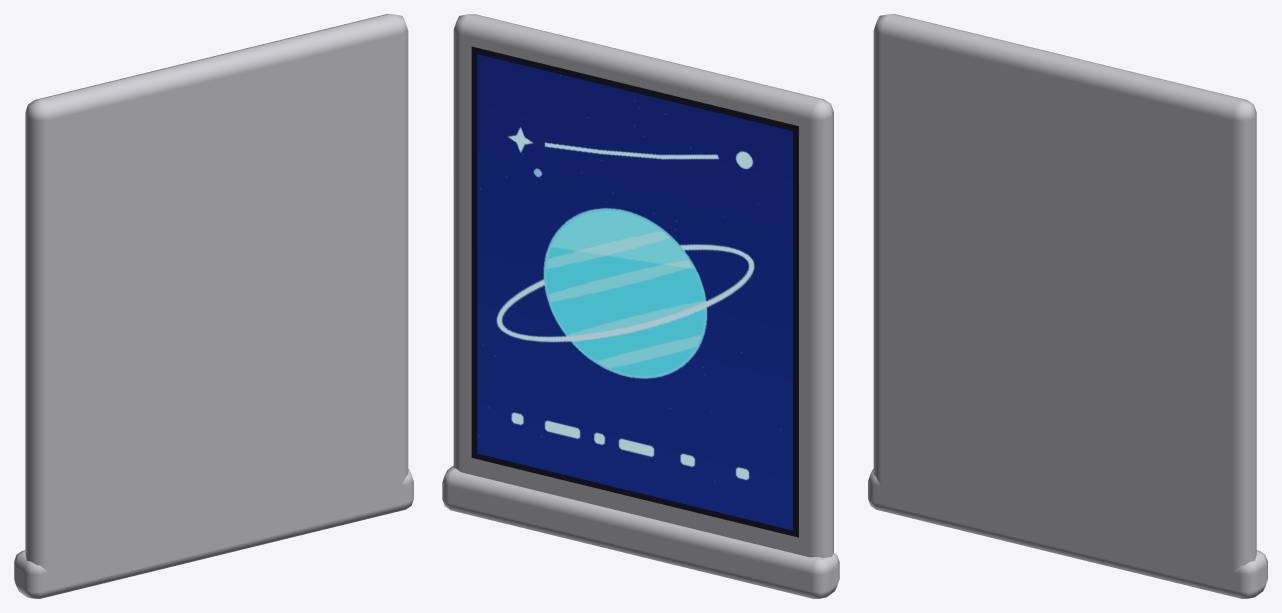
Rendered from prop.props_quarters.poster_planet.glb.
3 views of the same model, side by side, from view 1: azimuth 30°, elevation 25°; view 2: azimuth 150°, elevation 25°; view 3: azimuth 330°, elevation 25° (orthographic).
Parts seen in each view (by area): view 1: prop.props_quarters.poster_planet; view 2: prop.props_quarters.poster_planet; view 3: prop.props_quarters.poster_planet.
Part boxes in pixels (x1=…): prop.props_quarters.poster_planet: x1=14, y1=14, x2=413, y2=598; prop.props_quarters.poster_planet: x1=442, y1=14, x2=839, y2=598; prop.props_quarters.poster_planet: x1=868, y1=14, x2=1267, y2=598.
Bounding box in the file's own units: 0.82 × 1 × 0.08.
3 materials, 1 textured.
